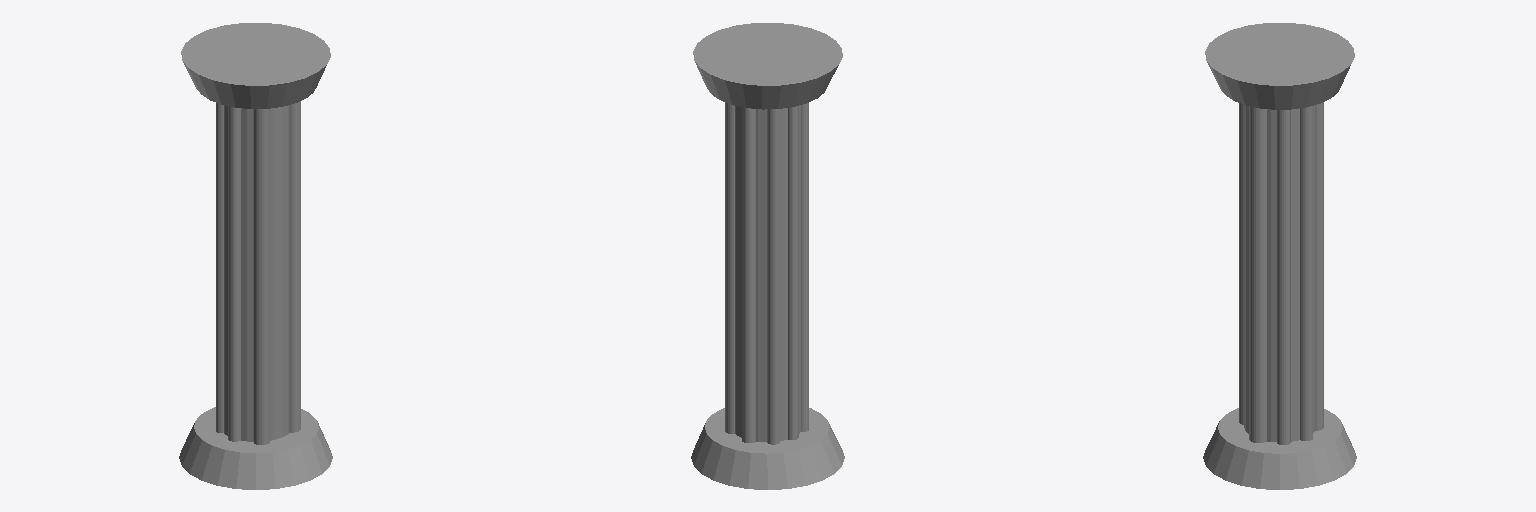
File: column.obj
The picture shows the model from 3 angles: view 1: azimuth 30°, elevation 25°; view 2: azimuth 150°, elevation 25°; view 3: azimuth 270°, elevation 25°; orthographic projection.
Visible parts, largest first — view 1: SketchUp.005_ID52, SketchUp_ID2, SketchUp.027_ID238, SketchUp.004_ID44, SketchUp.021_ID192, SketchUp.028_ID246, SketchUp.019_ID173, SketchUp.007_ID71; view 2: SketchUp_ID2, SketchUp.005_ID52, SketchUp.004_ID44, SketchUp.022_ID200, SketchUp.017_ID154, SketchUp.019_ID173, SketchUp.023_ID208, SketchUp.021_ID192, SketchUp.007_ID71; view 3: SketchUp_ID2, SketchUp.005_ID52, SketchUp.028_ID246, SketchUp.004_ID44, SketchUp.024_ID216, SketchUp.023_ID208, SketchUp.022_ID200, SketchUp.007_ID71, SketchUp.027_ID238.
Part boxes in pixels (bbox=[...]): SketchUp.005_ID52: bbox=[224, 105, 288, 441]; SketchUp_ID2: bbox=[181, 23, 330, 108]; SketchUp.027_ID238: bbox=[253, 109, 269, 444]; SketchUp.004_ID44: bbox=[179, 421, 332, 489]; SketchUp.021_ID192: bbox=[228, 106, 240, 441]; SketchUp.028_ID246: bbox=[289, 101, 300, 432]; SketchUp.019_ID173: bbox=[216, 103, 223, 432]; SketchUp.007_ID71: bbox=[194, 407, 318, 452]; SketchUp_ID2: bbox=[693, 23, 842, 109]; SketchUp.005_ID52: bbox=[735, 105, 800, 441]; SketchUp.004_ID44: bbox=[691, 422, 844, 489]; SketchUp.022_ID200: bbox=[742, 107, 755, 442]; SketchUp.017_ID154: bbox=[767, 109, 779, 444]; SketchUp.019_ID173: bbox=[788, 106, 798, 439]; SketchUp.023_ID208: bbox=[725, 102, 734, 433]; SketchUp.021_ID192: bbox=[801, 103, 808, 431]; SketchUp.007_ID71: bbox=[705, 408, 829, 453]; SketchUp_ID2: bbox=[1205, 23, 1354, 109]; SketchUp.005_ID52: bbox=[1244, 105, 1314, 441]; SketchUp.028_ID246: bbox=[1249, 106, 1266, 442]; SketchUp.004_ID44: bbox=[1203, 421, 1356, 489]; SketchUp.024_ID216: bbox=[1277, 110, 1290, 444]; SketchUp.023_ID208: bbox=[1300, 106, 1312, 440]; SketchUp.022_ID200: bbox=[1315, 102, 1323, 430]; SketchUp.007_ID71: bbox=[1218, 408, 1342, 453]; SketchUp.027_ID238: bbox=[1239, 103, 1243, 424].
Bounding box in the file's own units: 12.46 × 36.07 × 12.46.